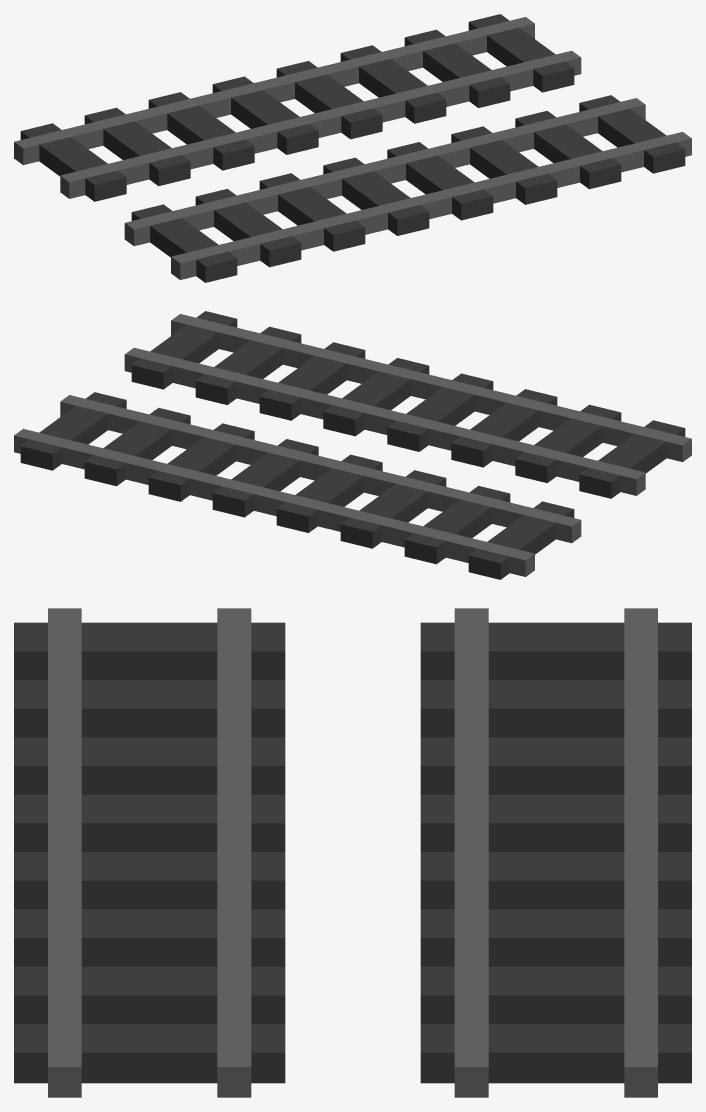
File: track-straight-double.gltf
3 views of the same model, one above another, from view 1: azimuth 30°, elevation 25°; view 2: azimuth 150°, elevation 25°; view 3: azimuth 270°, elevation 25° (orthographic). The views are drawn at different scales.
Visible parts, largest first — view 1: track-straight-double_model; view 2: track-straight-double_model; view 3: track-straight-double_model.
Boxes of the visible parts, <box> form: track-straight-double_model: <box>14,14,691,282</box>; track-straight-double_model: <box>14,311,691,579</box>; track-straight-double_model: <box>14,608,691,1097</box>.
Bounding box in the file's own units: 3.2 × 0.1 × 2.
1 material, 1 textured.
